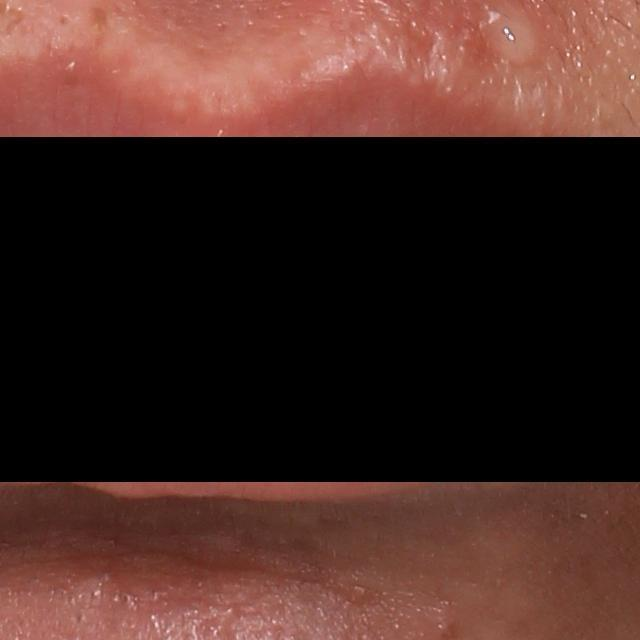papule: (431, 613, 469, 640)
